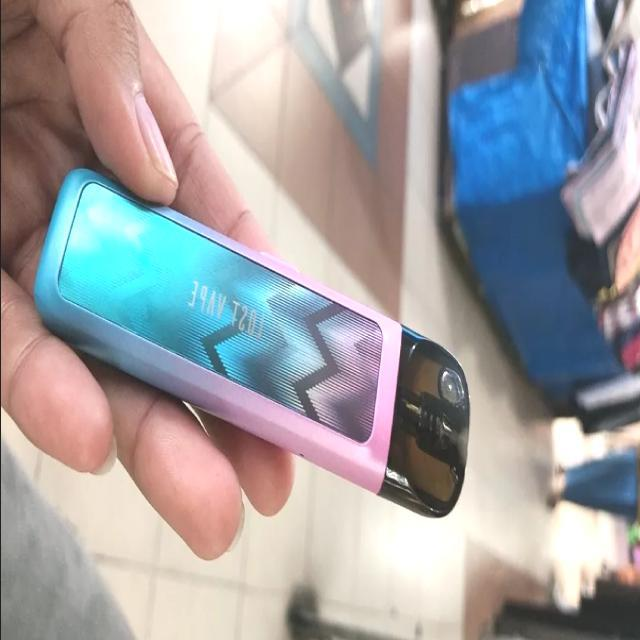Hazard: (32, 160, 470, 519)
